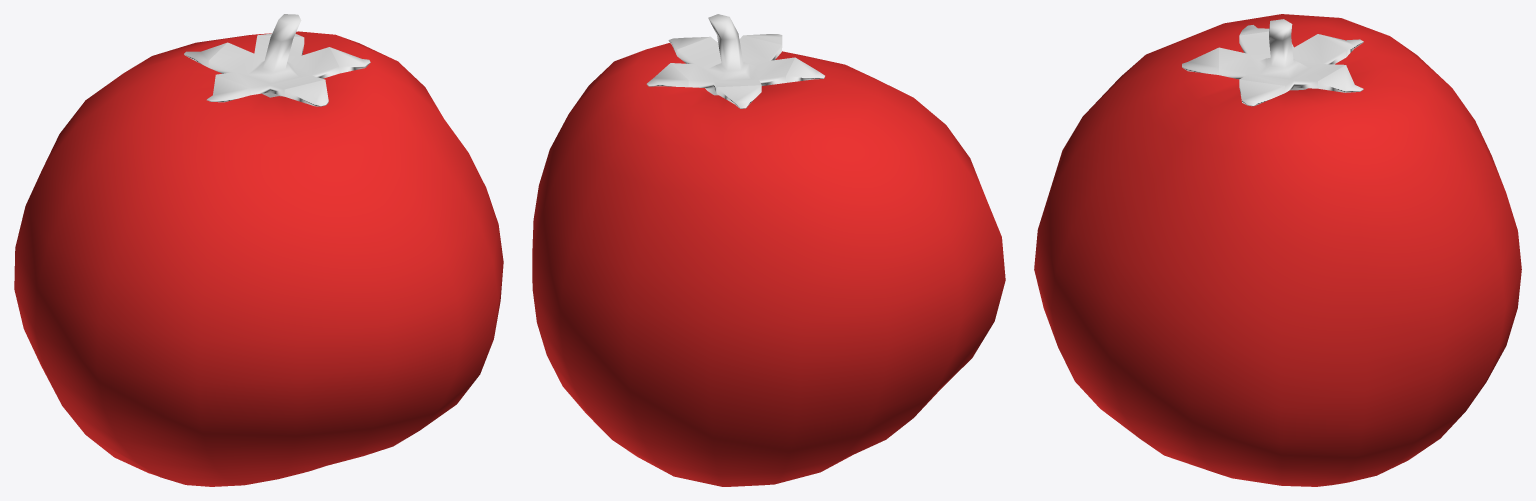
File: tomato_WHOLE.fbx
3 views of the same model, side by side, from view 1: azimuth 30°, elevation 25°; view 2: azimuth 150°, elevation 25°; view 3: azimuth 270°, elevation 25° (orthographic). The views are drawn at different scales.
Visible parts, largest first — view 1: whole tomato, stem; view 2: whole tomato, stem; view 3: whole tomato, stem.
Part boxes in pixels (x1,y1,x2,y2): whole tomato: (14,31,503,486); stem: (184,14,370,106); whole tomato: (532,43,1005,486); stem: (646,14,825,108); whole tomato: (1034,14,1521,486); stem: (1182,19,1363,106).
Size of the model in its own units: 293 by 290 by 279.
